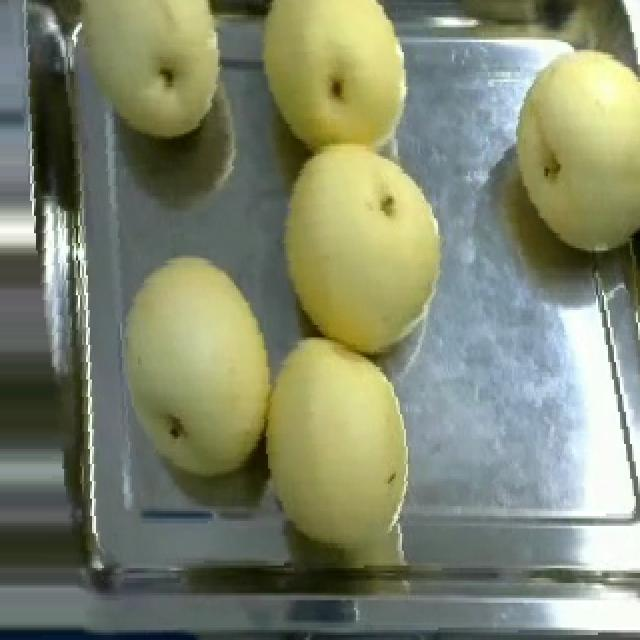Fruit: (108, 241, 288, 491), (268, 132, 460, 362), (246, 328, 426, 558), (488, 32, 640, 273), (244, 0, 426, 164), (52, 0, 236, 149)
